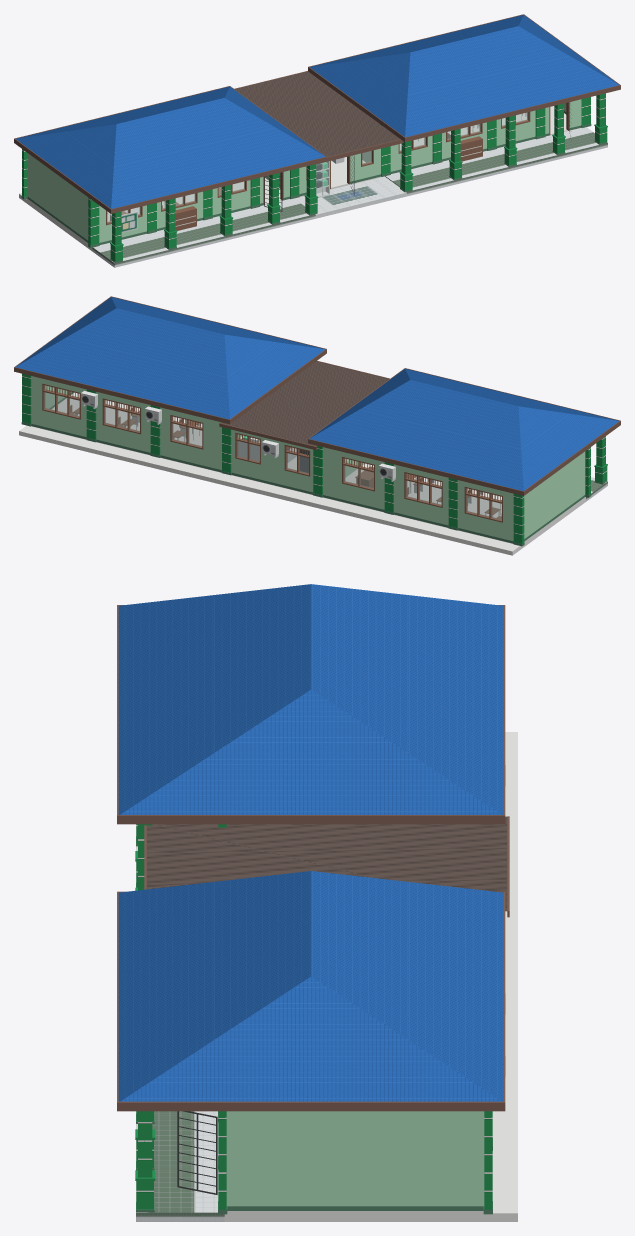
The model's file is gedung_sekolah_3ruangan.glb.
3 views of the same model, one above another, from view 1: azimuth 30°, elevation 25°; view 2: azimuth 150°, elevation 25°; view 3: azimuth 270°, elevation 25° (orthographic). The views are drawn at different scales.
Parts seen in each view (by area): view 1: Atap_Utama_Biru, Tiang_Dan_Pilaster_Hijau, Lantai_Beranda_Kelas, Dinding_Mint, Atap_Kanopi_Tengah, Atap_Lisplang_Coklat, Kusen_Pintu_Meja_Kelas, Lantai_Beranda_Kantor_Jurusan, Lantai_Interior_Dan_Selasar, Kaca_Jendela_Transparan, Plint_Bawah, Properti_Putih_Dan_Whiteboard; view 2: Atap_Utama_Biru, Dinding_Mint, Lantai_Interior_Dan_Selasar, Atap_Kanopi_Tengah, Kusen_Pintu_Meja_Kelas, Atap_Lisplang_Coklat, Tiang_Dan_Pilaster_Hijau, Kaca_Jendela_Transparan, Plint_Bawah, Interior_Rangka_Rak_Dan_Meja, AC_Outdoor_Belakang, Properti_Putih_Dan_Whiteboard; view 3: Atap_Utama_Biru, Dinding_Mint, Atap_Kanopi_Tengah, Atap_Lisplang_Coklat, Lantai_Interior_Dan_Selasar, Lantai_Beranda_Kelas, Tiang_Dan_Pilaster_Hijau, Plint_Bawah, Teralis_Besi_Hitam.
Part boxes in pixels (bbox=[...]): Atap_Utama_Biru: bbox=[16, 15, 619, 208]; Tiang_Dan_Pilaster_Hijau: bbox=[22, 93, 607, 261]; Lantai_Beranda_Kelas: bbox=[92, 127, 607, 267]; Dinding_Mint: bbox=[27, 99, 581, 242]; Atap_Kanopi_Tengah: bbox=[235, 71, 400, 156]; Atap_Lisplang_Coklat: bbox=[14, 14, 620, 213]; Kusen_Pintu_Meja_Kelas: bbox=[106, 102, 569, 230]; Lantai_Beranda_Kantor_Jurusan: bbox=[294, 176, 406, 218]; Lantai_Interior_Dan_Selasar: bbox=[19, 106, 567, 250]; Kaca_Jendela_Transparan: bbox=[107, 112, 528, 222]; Plint_Bawah: bbox=[21, 111, 607, 262]; Properti_Putih_Dan_Whiteboard: bbox=[121, 145, 481, 232]; Atap_Utama_Biru: bbox=[15, 297, 618, 490]; Dinding_Mint: bbox=[31, 376, 585, 541]; Lantai_Interior_Dan_Selasar: bbox=[19, 392, 585, 555]; Atap_Kanopi_Tengah: bbox=[220, 361, 389, 446]; Kusen_Pintu_Meja_Kelas: bbox=[42, 383, 502, 522]; Atap_Lisplang_Coklat: bbox=[14, 296, 620, 495]; Tiang_Dan_Pilaster_Hijau: bbox=[22, 373, 607, 543]; Kaca_Jendela_Transparan: bbox=[44, 392, 501, 520]; Plint_Bawah: bbox=[21, 392, 607, 546]; Interior_Rangka_Rak_Dan_Meja: bbox=[74, 401, 500, 516]; AC_Outdoor_Belakang: bbox=[81, 393, 392, 479]; Properti_Putih_Dan_Whiteboard: bbox=[81, 391, 395, 479]; Atap_Utama_Biru: bbox=[118, 584, 503, 1101]; Dinding_Mint: bbox=[226, 1111, 484, 1206]; Atap_Kanopi_Tengah: bbox=[146, 816, 507, 911]; Atap_Lisplang_Coklat: bbox=[117, 605, 509, 1111]; Lantai_Interior_Dan_Selasar: bbox=[224, 732, 517, 1221]; Lantai_Beranda_Kelas: bbox=[136, 824, 224, 1221]; Tiang_Dan_Pilaster_Hijau: bbox=[135, 824, 492, 1209]; Plint_Bawah: bbox=[136, 836, 492, 1214]; Teralis_Besi_Hitam: bbox=[177, 1111, 217, 1194].
Size of the model in its own units: 27.9 by 5.25 by 9.5.
Materials: 20 (8 with a texture image).
